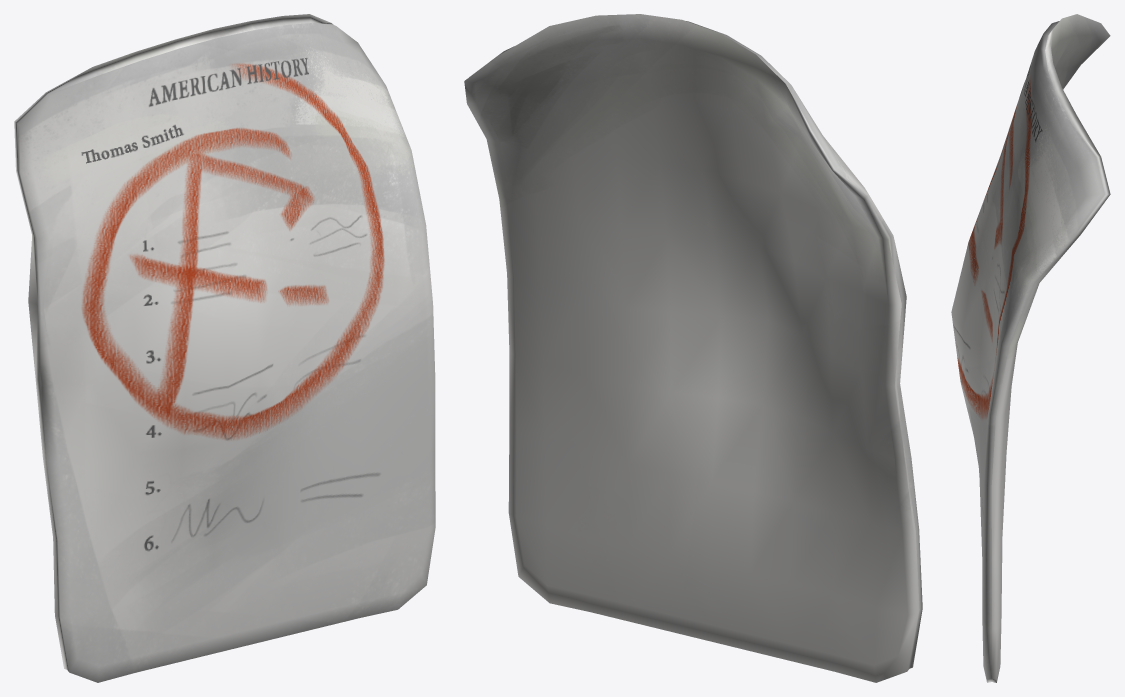
File: obstacle1 - exam.fbx
The picture shows the model from 3 angles, left to right: view 1: azimuth 30°, elevation 25°; view 2: azimuth 150°, elevation 25°; view 3: azimuth 270°, elevation 25°; orthographic projection. The views are drawn at different scales.
Parts seen in each view (by area): view 1: pCube1; view 2: pCube1; view 3: pCube1.
Part boxes in pixels (<box>): pCube1: <box>14,14,435,682</box>; pCube1: <box>464,14,922,682</box>; pCube1: <box>951,14,1110,682</box>.
Bounding box in the file's own units: 7.53 × 11.18 × 2.84.
Materials: 1 (1 with a texture image).
